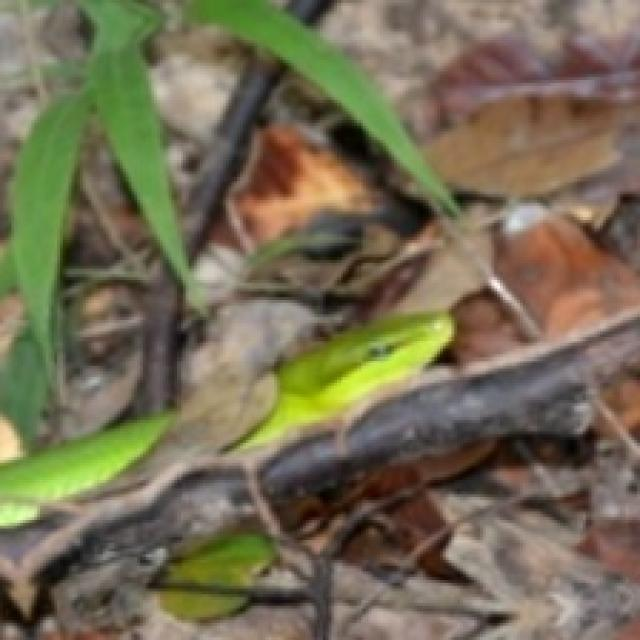red-tailed green ratsnake: (234, 311, 451, 449), (0, 411, 174, 526)
